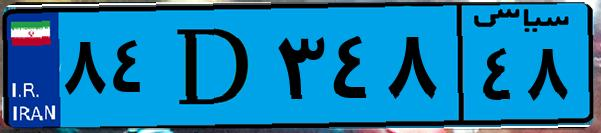3: (270, 28, 330, 110)
4: (330, 28, 385, 110), (475, 38, 525, 113), (110, 28, 158, 98)
8: (385, 28, 445, 110), (57, 26, 110, 100), (525, 38, 570, 115)
D: (158, 12, 270, 120)
